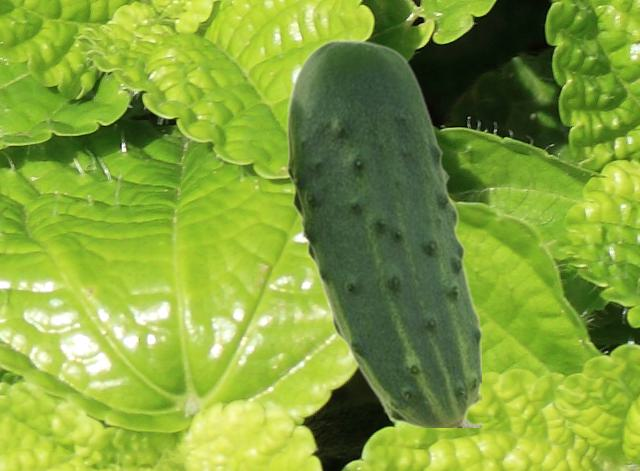cucumber: (286, 38, 480, 426)
